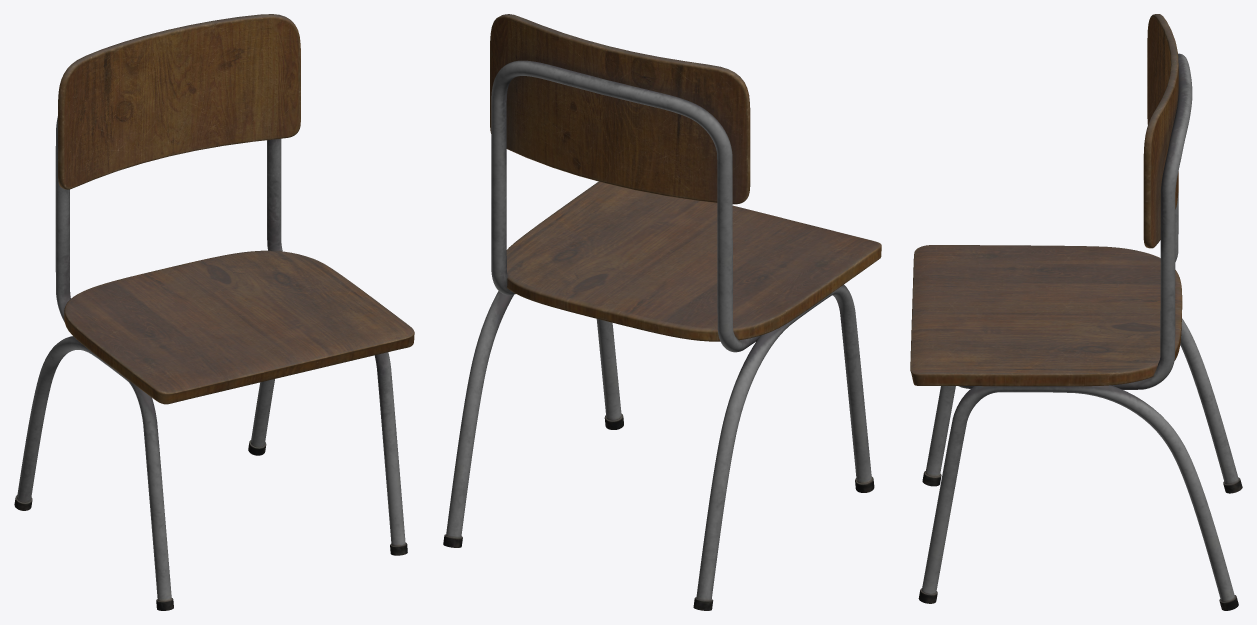
The model's file is scaun2.fbx.
The picture shows the model from 3 angles, left to right: view 1: azimuth 30°, elevation 25°; view 2: azimuth 150°, elevation 25°; view 3: azimuth 270°, elevation 25°; orthographic projection. The views are drawn at different scales.
Parts seen in each view (by area): view 1: yizi; view 2: yizi; view 3: yizi.
Part boxes in pixels (left/top/right/bottom): yizi: left=14, top=14, right=414, bottom=610; yizi: left=443, top=14, right=881, bottom=610; yizi: left=910, top=14, right=1242, bottom=610.
Size of the model in its own units: 49.09 by 85.57 by 52.94.
